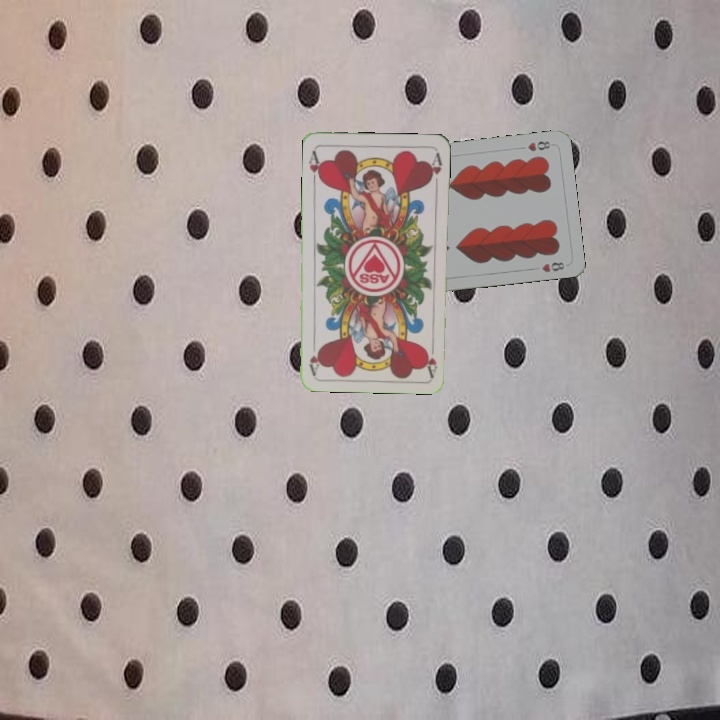H8: (524, 137, 555, 154)
HA: (305, 147, 325, 187), (421, 337, 440, 378)
